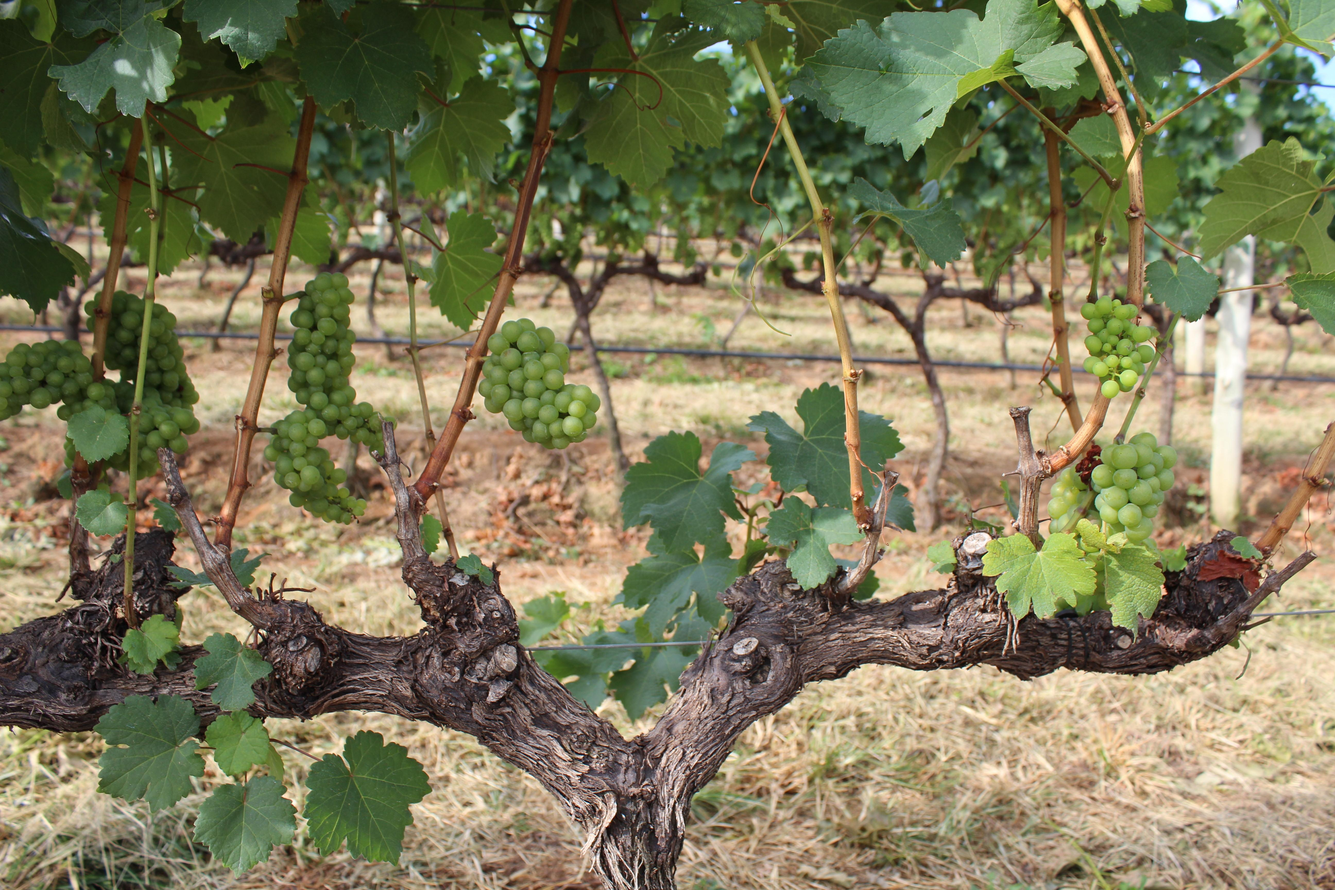leaf: (809, 0, 1062, 158), (585, 18, 729, 187), (294, 3, 433, 130), (303, 730, 430, 862), (620, 432, 755, 553), (173, 116, 295, 243), (1199, 138, 1323, 259), (48, 13, 181, 118), (0, 19, 95, 157), (748, 383, 851, 508), (95, 695, 204, 811), (406, 77, 514, 194), (621, 542, 738, 640), (0, 166, 74, 313), (849, 177, 966, 266), (194, 776, 296, 875), (982, 533, 1096, 618), (766, 498, 863, 589), (430, 209, 503, 329), (183, 0, 297, 61), (193, 633, 272, 710), (417, 7, 484, 93), (1102, 544, 1163, 631), (1146, 256, 1219, 321), (206, 710, 270, 776), (924, 108, 977, 181), (682, 0, 767, 43), (859, 412, 903, 493), (121, 614, 180, 674), (68, 405, 129, 462), (1286, 272, 1335, 333), (517, 595, 570, 647), (75, 489, 128, 535), (291, 207, 332, 265), (1068, 115, 1122, 157), (1035, 45, 1084, 88), (229, 547, 263, 587), (455, 553, 494, 585), (150, 498, 183, 532), (926, 541, 957, 574), (419, 514, 443, 554), (168, 566, 213, 587), (1230, 536, 1263, 559), (265, 217, 280, 249), (100, 3, 115, 7), (123, 3, 136, 6), (325, 256, 327, 259), (210, 727, 211, 731), (1019, 72, 1022, 73), (441, 96, 444, 97), (215, 724, 216, 725), (725, 544, 725, 545)
